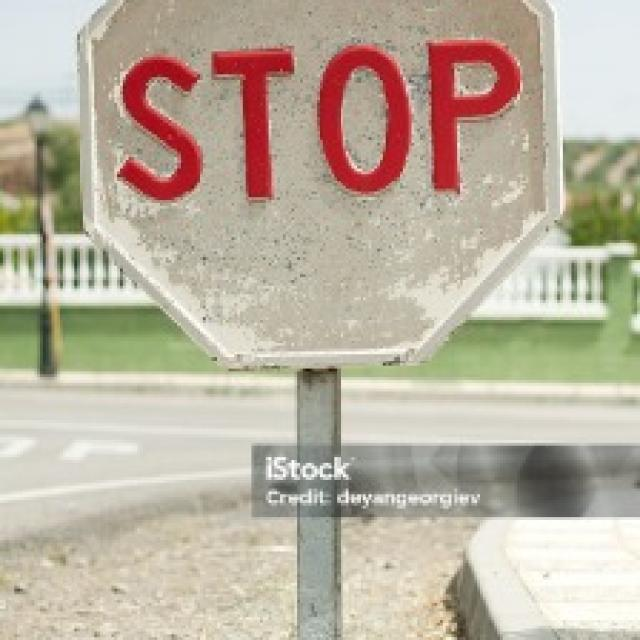stop: (75, 0, 563, 370)
